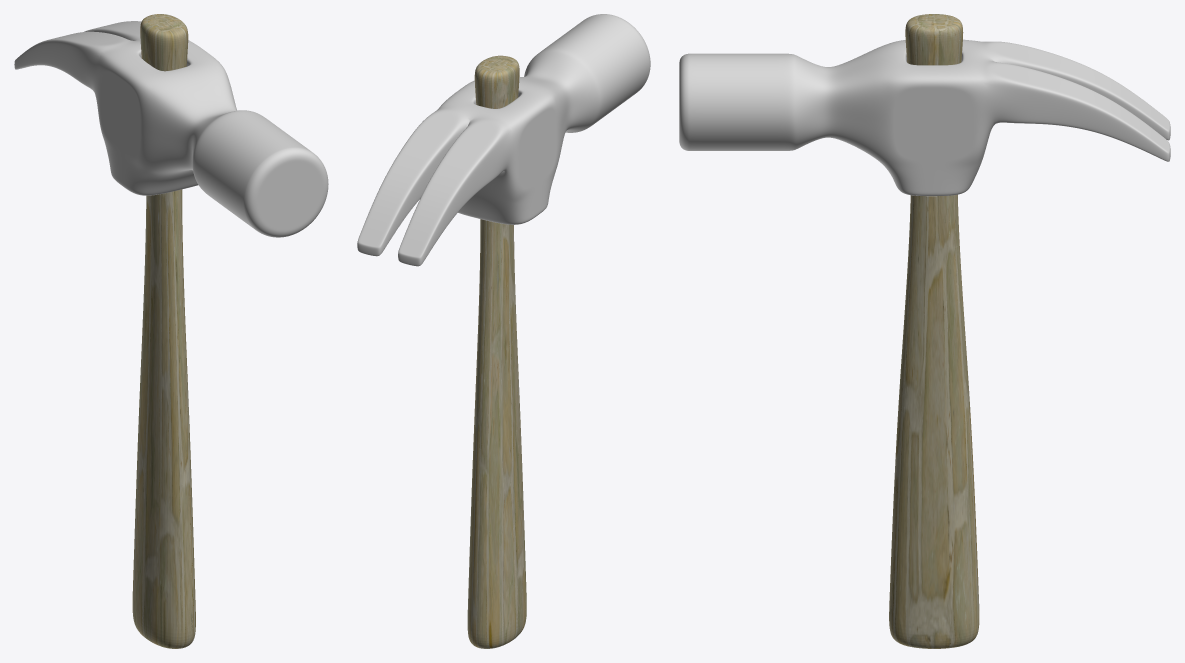
3 views of the same model, side by side, from view 1: azimuth 30°, elevation 25°; view 2: azimuth 150°, elevation 25°; view 3: azimuth 270°, elevation 25° (orthographic). The views are drawn at different scales.
Parts seen in each view (by area): view 1: 立方体, 立方体.001; view 2: 立方体, 立方体.001; view 3: 立方体, 立方体.001.
Part boxes in pixels (x1,y1,x2,y2): 立方体: (14, 21, 328, 237); 立方体.001: (132, 14, 195, 648); 立方体: (357, 14, 650, 266); 立方体.001: (467, 55, 526, 648); 立方体: (679, 39, 1170, 196); 立方体.001: (889, 14, 979, 648).
Size of the model in its own units: 200 by 1348 by 962.
